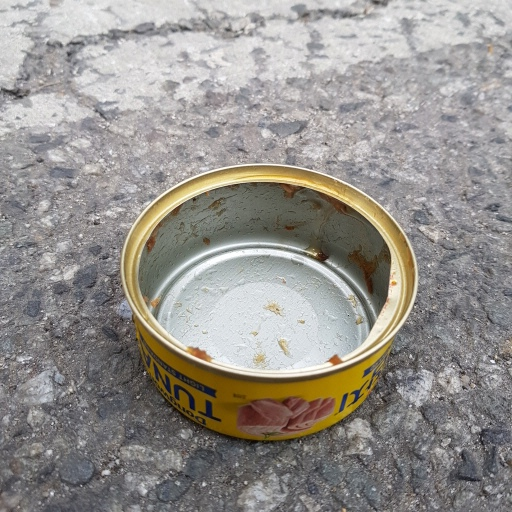Metal_1: (117, 163, 421, 441)
